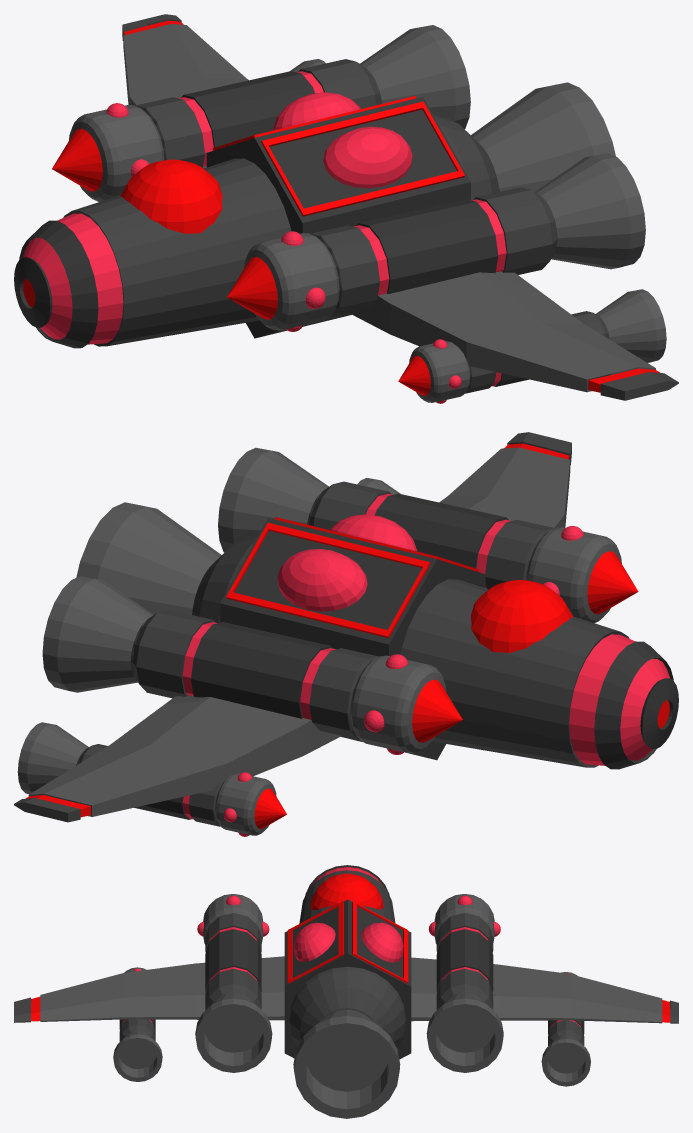
The model's file is ENEMYSHIP.FBX.
The picture shows the model from 3 angles, top to bottom: view 1: azimuth 30°, elevation 25°; view 2: azimuth 150°, elevation 25°; view 3: azimuth 270°, elevation 25°; orthographic projection. The views are drawn at different scales.
Parts seen in each view (by area): view 1: ChamferCyl001, Cone002, Cone003, Cylinder001, Box002, Cone001, Cone005, Box001; view 2: ChamferCyl001, Cone003, Cone002, Cylinder001, Box001, Cone001, Cone004, Box002; view 3: Cone003, Cone002, Box002, Cylinder001, Box001, Cone001, ChamferCyl001, Cone004, Cone005.
Part boxes in pixels (x1,y1,x2,y2): ChamferCyl001: (14, 114, 499, 348); Cone002: (227, 153, 645, 331); Cone003: (52, 25, 470, 201); Cylinder001: (206, 92, 470, 338); Box002: (348, 271, 678, 400); Cone001: (471, 82, 615, 191); Cone005: (398, 289, 666, 403); Box001: (122, 14, 248, 168); ChamferCyl001: (192, 535, 678, 769); Cone003: (42, 576, 462, 754); Cone002: (218, 447, 638, 623); Cylinder001: (220, 514, 485, 760); Box001: (14, 695, 341, 822); Cone001: (76, 502, 221, 614); Cone004: (17, 722, 286, 836); Box002: (439, 432, 571, 588); Cone003: (426, 894, 503, 1072); Cone002: (195, 894, 272, 1072); Box002: (14, 956, 284, 1022); Cylinder001: (284, 899, 411, 1059); Box001: (411, 957, 678, 1023); Cone001: (293, 1009, 400, 1118); ChamferCyl001: (288, 865, 406, 1048); Cone004: (541, 972, 590, 1086); Cone005: (113, 967, 162, 1081).
Size of the model in its own units: 65.37 by 22.94 by 103.
